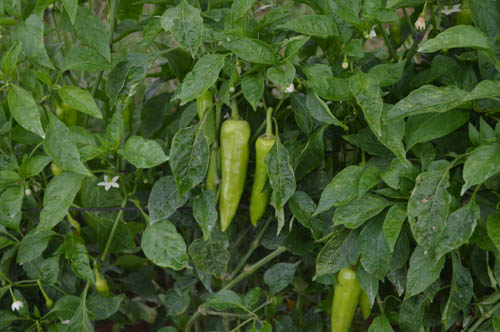ChiliPepper: (219, 119, 247, 231), (251, 135, 273, 229), (328, 270, 359, 331)
